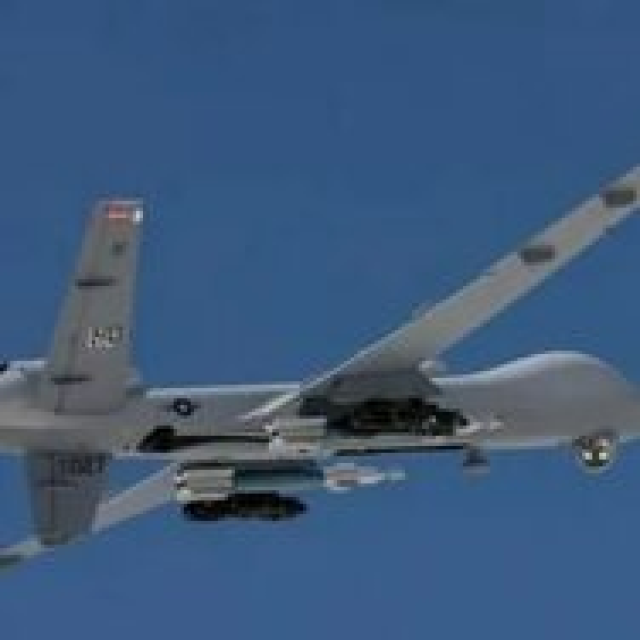military drone: (0, 163, 640, 569)
